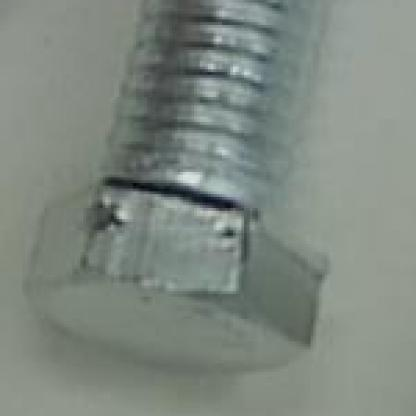FOD: (25, 3, 366, 382)
